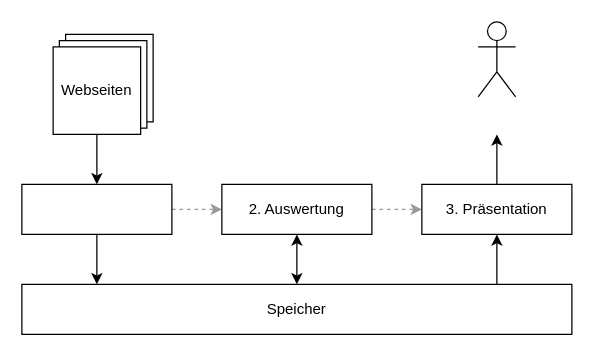
Some shapes in this 594 by 356 pixel diagram are drawn without their labels. The centre of each missing label's shape, as x and y in pixels:
1. Gewinnung: point 96,208
User: point 496,59
